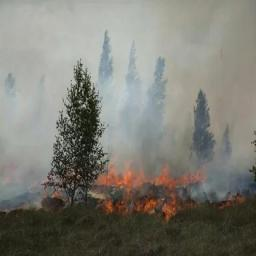Low smoke: (0, 0, 255, 211)
Small fire: (42, 152, 223, 221)
